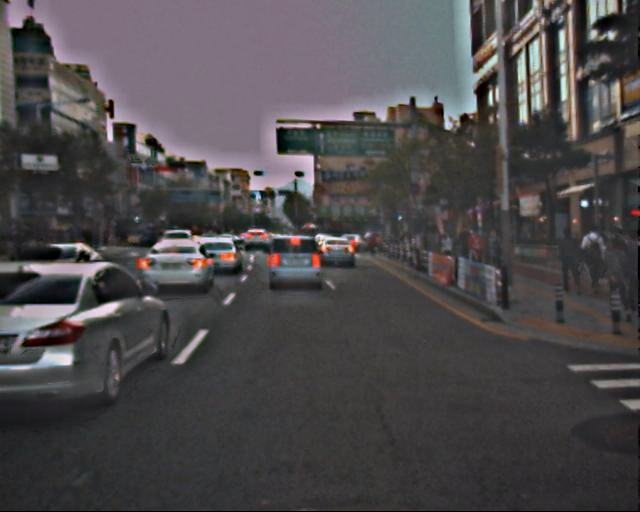person: (598, 238, 632, 320), (578, 226, 606, 295), (617, 232, 640, 310), (555, 229, 581, 293), (481, 231, 500, 278), (465, 229, 483, 274)
